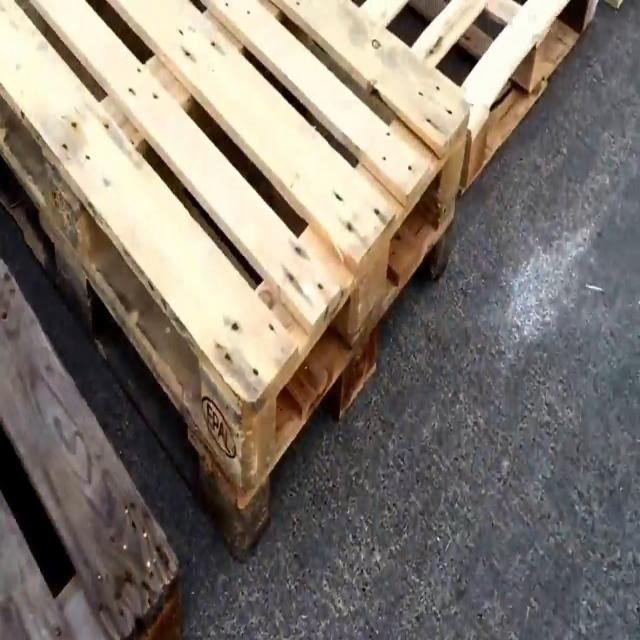Palette: (0, 0, 477, 564), (0, 244, 180, 639), (345, 0, 640, 179)
